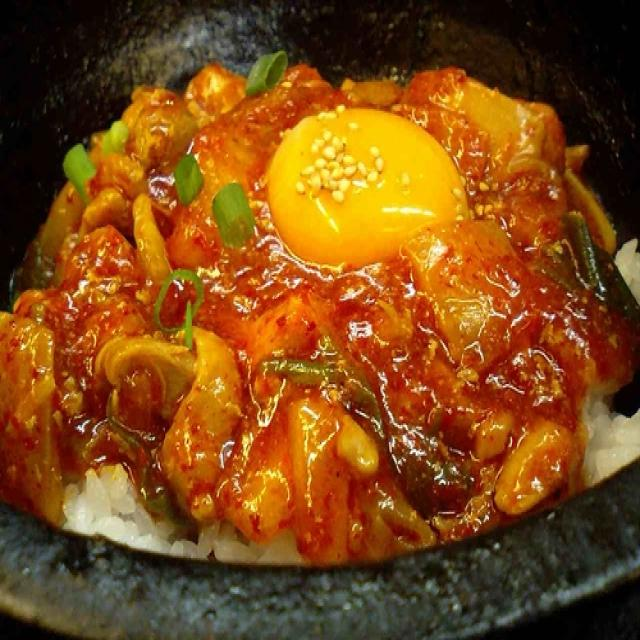鸡肉料理 含炸鸡: (1, 7, 635, 599)
